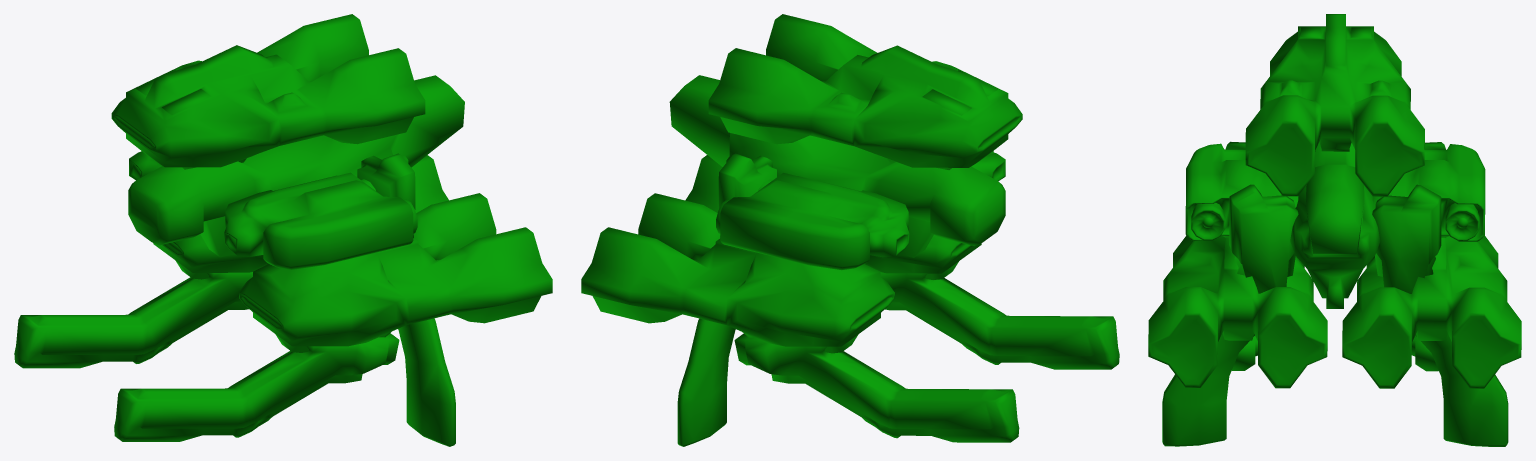
The model's file is ship18_green.glb.
3 views of the same model, side by side, from view 1: azimuth 30°, elevation 25°; view 2: azimuth 150°, elevation 25°; view 3: azimuth 270°, elevation 25° (orthographic). The views are drawn at different scales.
Visible parts, largest first — view 1: ME_ship_IndexedFaceSet; view 2: ME_ship_IndexedFaceSet; view 3: ME_ship_IndexedFaceSet.
Part boxes in pixels (x1,y1,x2,y2): ME_ship_IndexedFaceSet: (14,14,552,446); ME_ship_IndexedFaceSet: (581,14,1119,446); ME_ship_IndexedFaceSet: (1148,14,1521,446).
Bounding box in the file's own units: 299 × 266 × 257.
